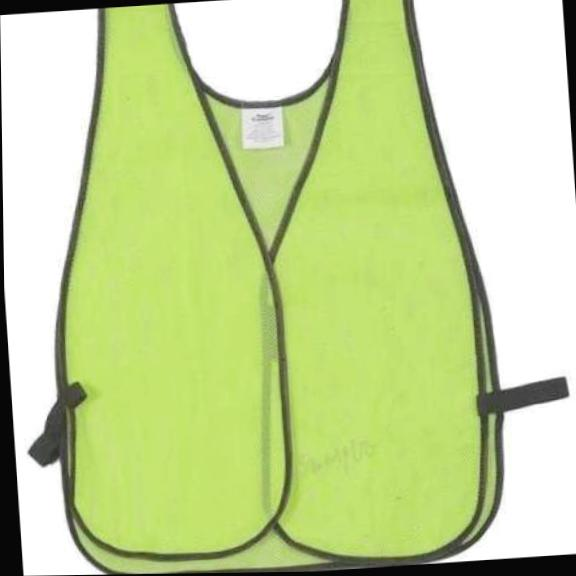safety_vest: (21, 0, 515, 576)
